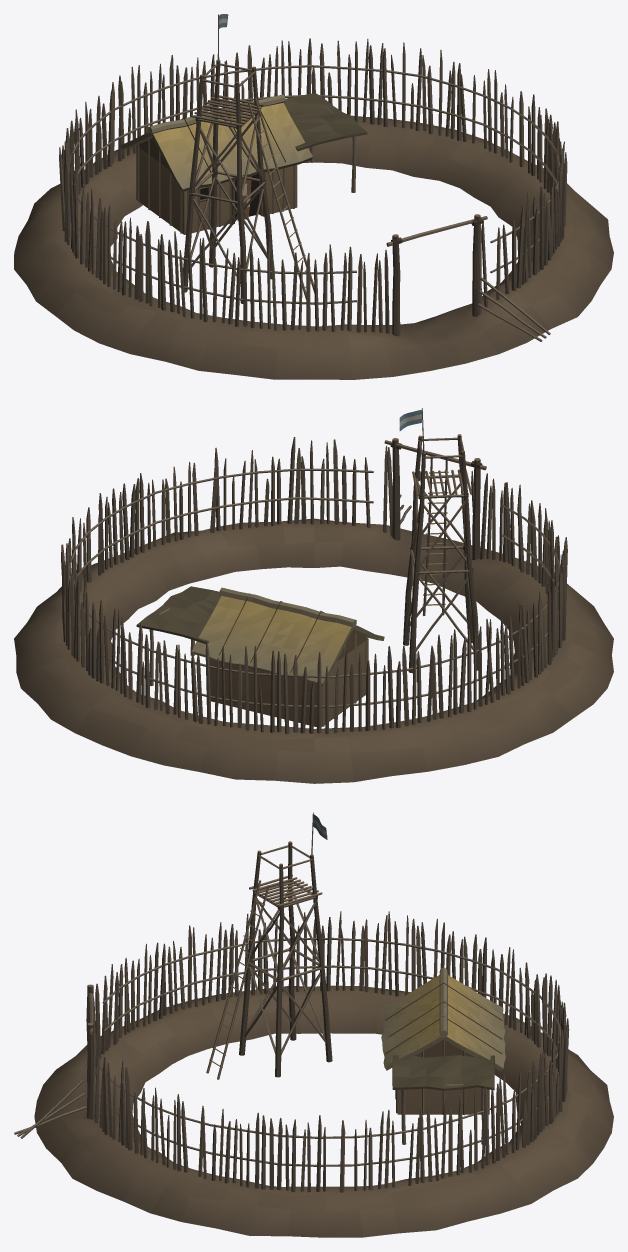
File: fortin_nuevo.glb
The picture shows the model from 3 angles, top to bottom: view 1: azimuth 30°, elevation 25°; view 2: azimuth 150°, elevation 25°; view 3: azimuth 270°, elevation 25°; orthographic projection. The views are drawn at different scales.
Parts seen in each view (by area): view 1: FortinNuevo; view 2: FortinNuevo; view 3: FortinNuevo.
Boxes of the visible parts, x1,y1,x2,y2 form: FortinNuevo: [14, 14, 613, 379]; FortinNuevo: [14, 408, 613, 783]; FortinNuevo: [14, 812, 613, 1237].
Size of what is drawn, in the model's own units: 17.43 by 8.6 by 18.22.
